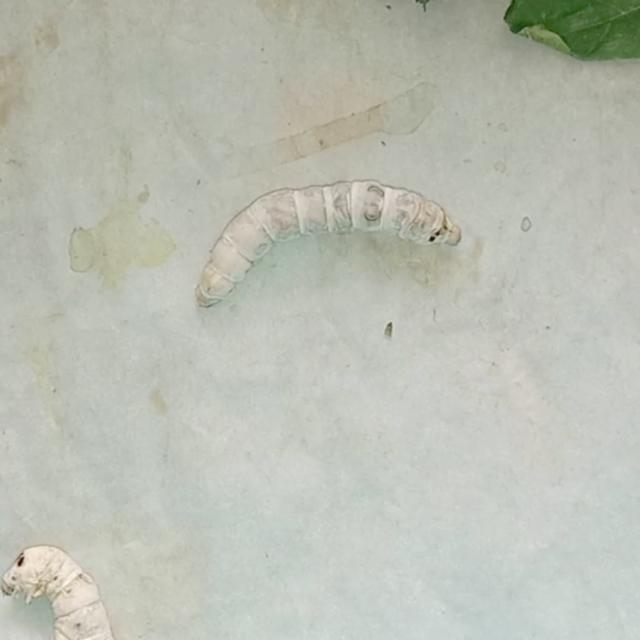Grasserie: (191, 166, 468, 320)
